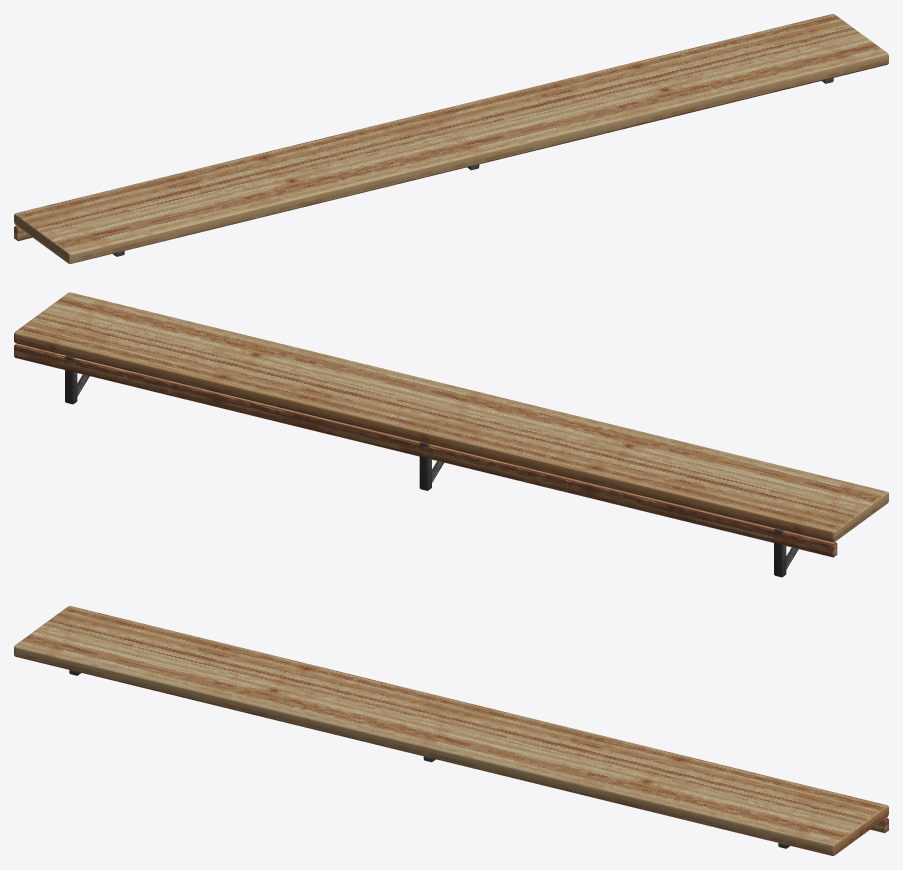
The model's file is shelf_long.glb.
3 renders of one model, top to bottom at view 1: azimuth 30°, elevation 25°; view 2: azimuth 150°, elevation 25°; view 3: azimuth 330°, elevation 25°, orthographic.
Parts seen in each view (by area): view 1: mesh; view 2: mesh; view 3: mesh.
Part boxes in pixels (left/top/right/bottom): mesh: left=14, top=14, right=888, bottom=263; mesh: left=14, top=292, right=888, bottom=577; mesh: left=14, top=606, right=888, bottom=855.
Bounding box in the file's own units: 2.2 × 0.1499 × 0.26.
1 material, 1 textured.
